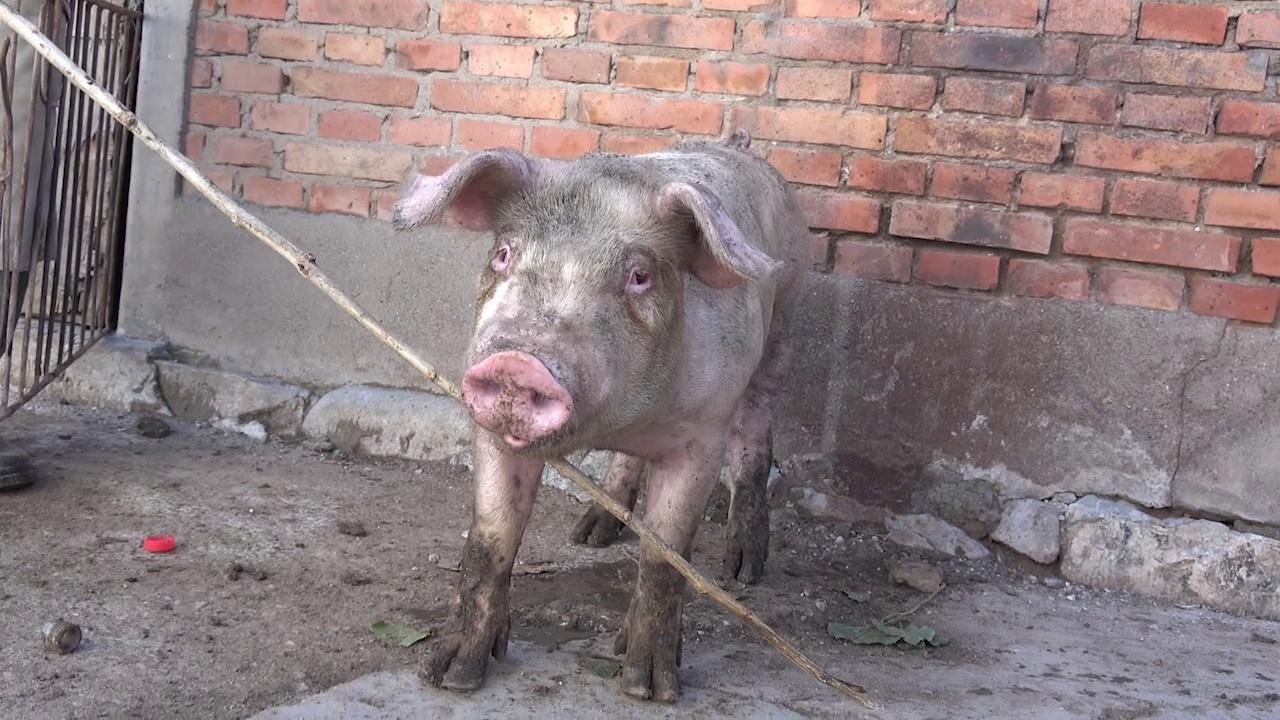Face: (385, 142, 788, 454)
